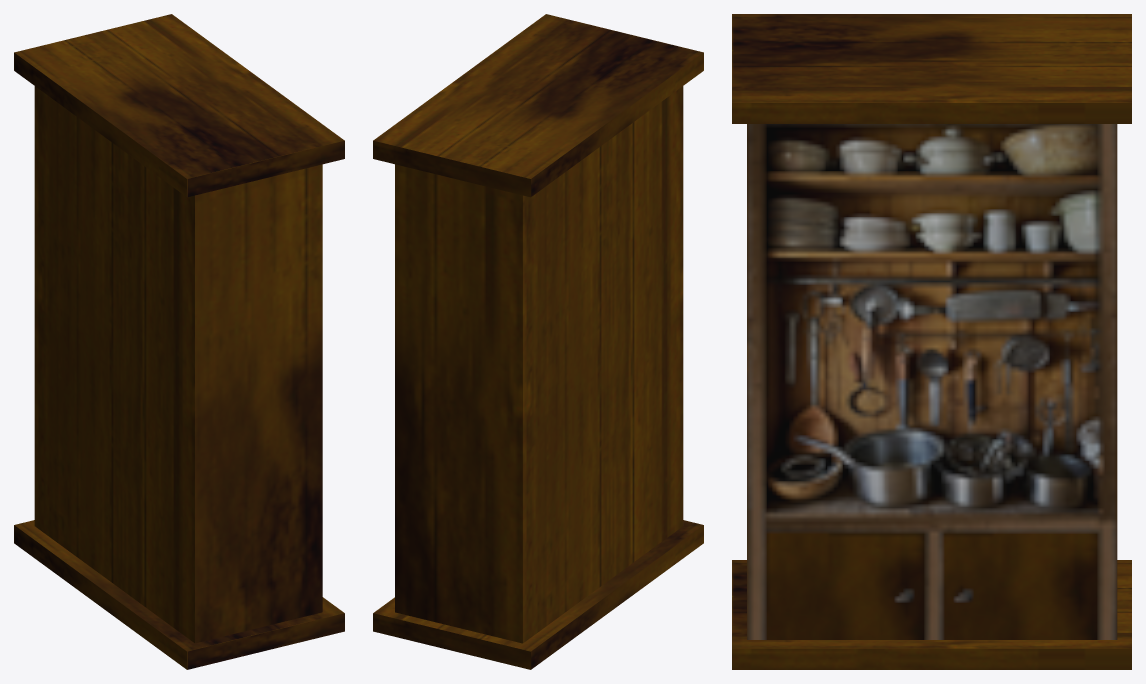
The model's file is Shelves2.fbx.
The picture shows the model from 3 angles, left to right: view 1: azimuth 30°, elevation 25°; view 2: azimuth 150°, elevation 25°; view 3: azimuth 270°, elevation 25°; orthographic projection. The views are drawn at different scales.
Visible parts, largest first — view 1: Shelves, Shelves2.001; view 2: Shelves, Shelves2.001; view 3: Shelves, Shelves2.001.
Boxes of the visible parts, box(x1,y1,x2,y2) form: Shelves: box(34, 86, 322, 643); Shelves2.001: box(14, 14, 344, 669); Shelves: box(395, 86, 683, 643); Shelves2.001: box(373, 14, 703, 669); Shelves: box(747, 124, 1117, 639); Shelves2.001: box(732, 14, 1131, 669).
Size of the model in its own units: 183 by 545 by 348.
